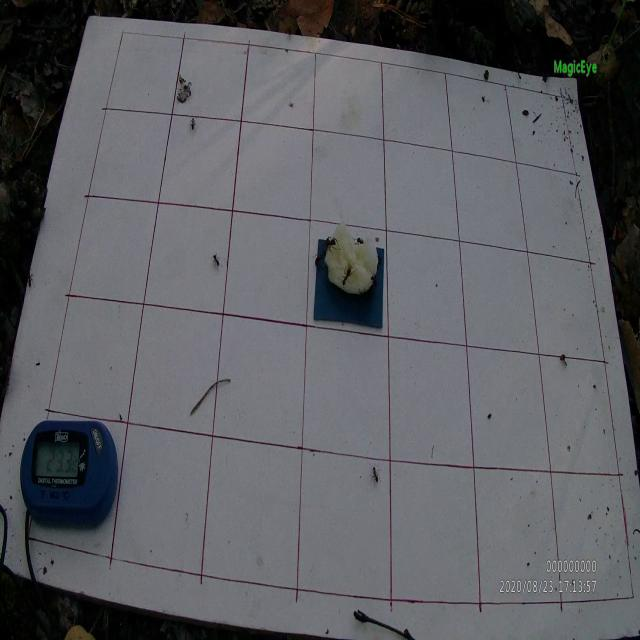Ant: (338, 268, 358, 291), (325, 238, 341, 256), (312, 251, 327, 268), (212, 253, 223, 273), (26, 268, 36, 290), (188, 116, 198, 136), (372, 465, 382, 484)
